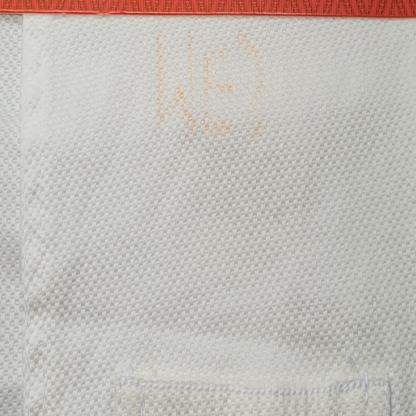spot: (145, 31, 276, 154)
